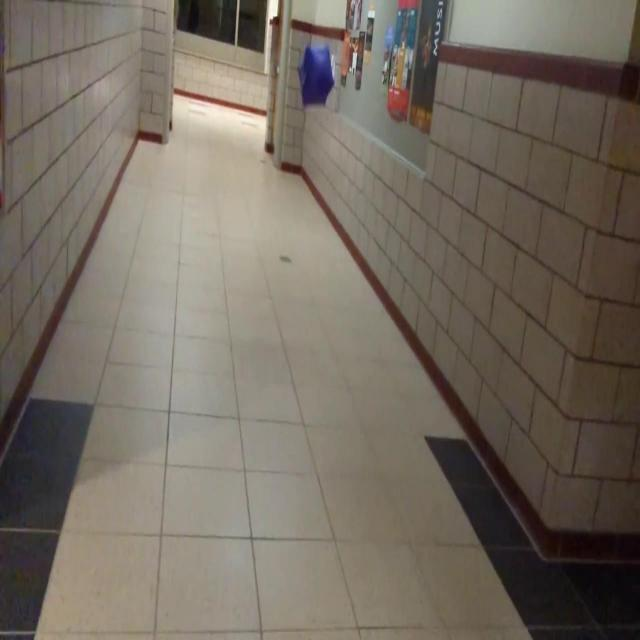frc_cube: (297, 44, 333, 106)
